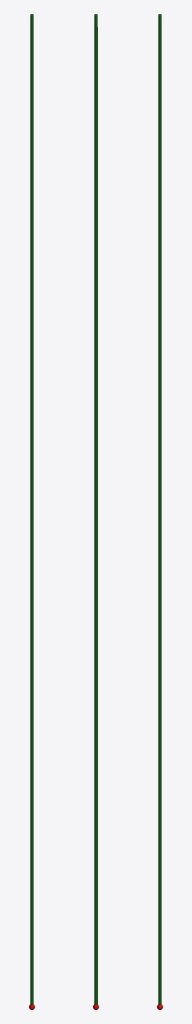
File: HangingLightString.fbx
3 renders of one model, left to right at view 1: azimuth 90°, elevation 25°; view 2: azimuth 150°, elevation 25°; view 3: azimuth 270°, elevation 25°, orthographic.
Parts seen in each view (by area): view 1: sweep1; view 2: sweep1; view 3: sweep1.
Part boxes in pixels (left/top/right/bottom): sweep1: left=29, top=14, right=34, bottom=1009; sweep1: left=93, top=14, right=98, bottom=1009; sweep1: left=157, top=14, right=162, bottom=1009.
Size of the model in its own units: 2.97 by 533 by 2.96.
